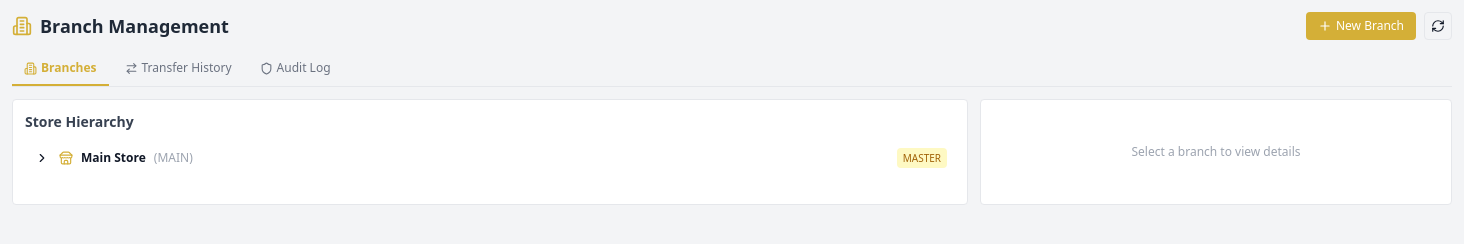
it: BranchManagement — Store Hierarchy › shows Disabled badge for inactive branches
Check: the text "Main Store" is shown, box [81,150,146,166]
Expand master
Click the button without text next to "Main Store" at (42, 158), box [33,149,51,167]
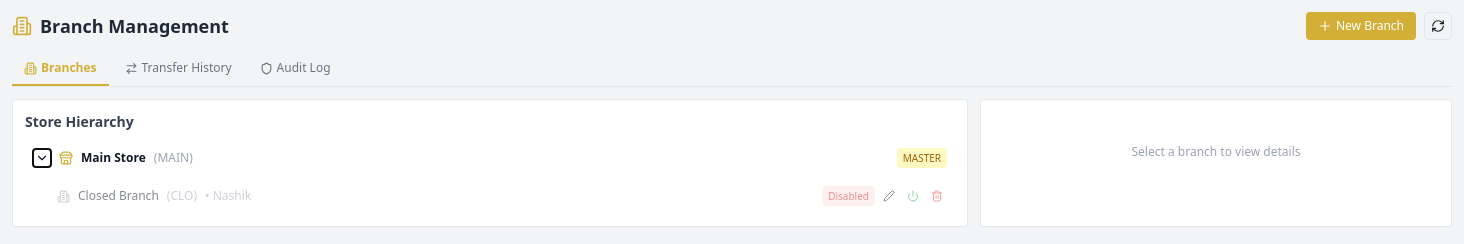
Check: the text "Disabled" is shown, box [822,186,875,206]
